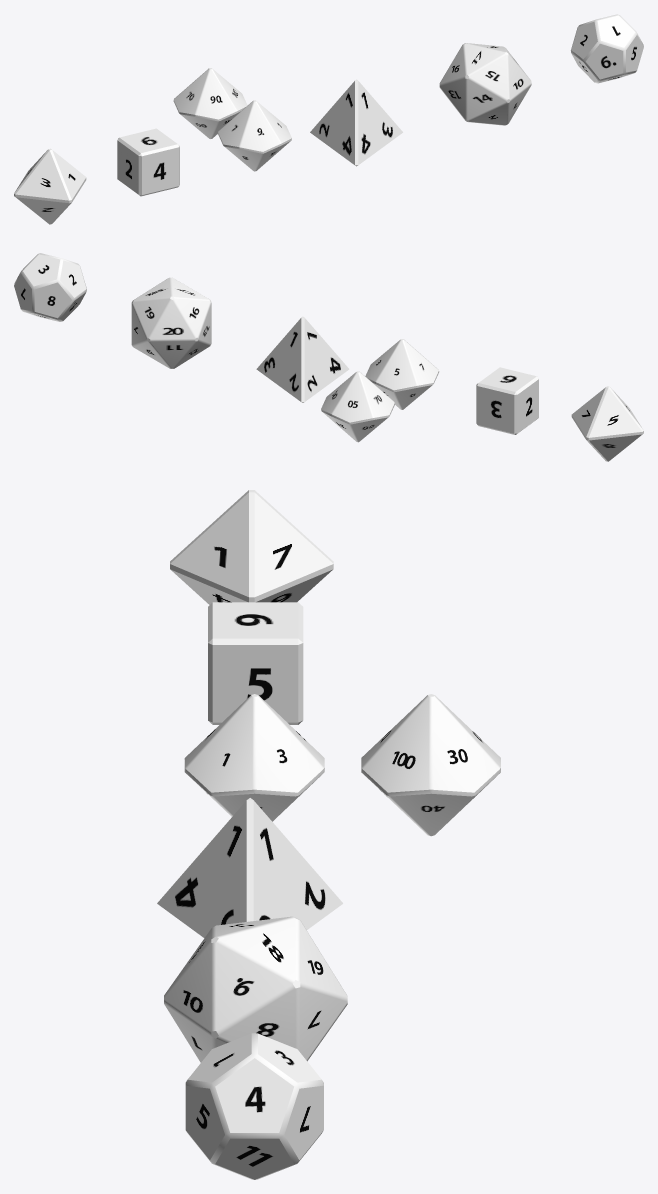
Rendered from dados_01 (2).FBX.
3 renders of one model, top to bottom at view 1: azimuth 30°, elevation 25°; view 2: azimuth 150°, elevation 25°; view 3: azimuth 270°, elevation 25°, orthographic. The views are drawn at different scales.
Visible parts, largest first — view 1: d20_, D4_, D12_, D6_, D8_, D10_01, D10_02; view 2: d20_, D4_, D12_, D6_, D8_, D10_02, D10_01; view 3: d20_, D12_, D4_, D8_, D10_02, D6_, D10_01.
Boxes of the visible parts, box(x1,y1,x2,y2) form: d20_: box(439, 43, 531, 125); D4_: box(310, 79, 402, 166); D12_: box(570, 14, 643, 83); D6_: box(117, 128, 179, 196); D8_: box(14, 148, 86, 224); D10_01: box(217, 100, 291, 171); D10_02: box(173, 68, 247, 138); d20_: box(131, 277, 211, 368); D4_: box(256, 316, 349, 402); D12_: box(14, 253, 86, 321); D6_: box(476, 367, 538, 434); D8_: box(571, 386, 643, 461); D10_02: box(321, 371, 394, 442); D10_01: box(365, 339, 439, 409); d20_: box(164, 916, 347, 1062); D12_: box(185, 1033, 323, 1179); D4_: box(157, 798, 342, 937); D8_: box(170, 490, 333, 604); D10_02: box(361, 694, 500, 836); D6_: box(208, 602, 303, 724); D10_01: box(184, 694, 324, 821).
Bounding box in the file's own units: 1885 × 226 × 452.
